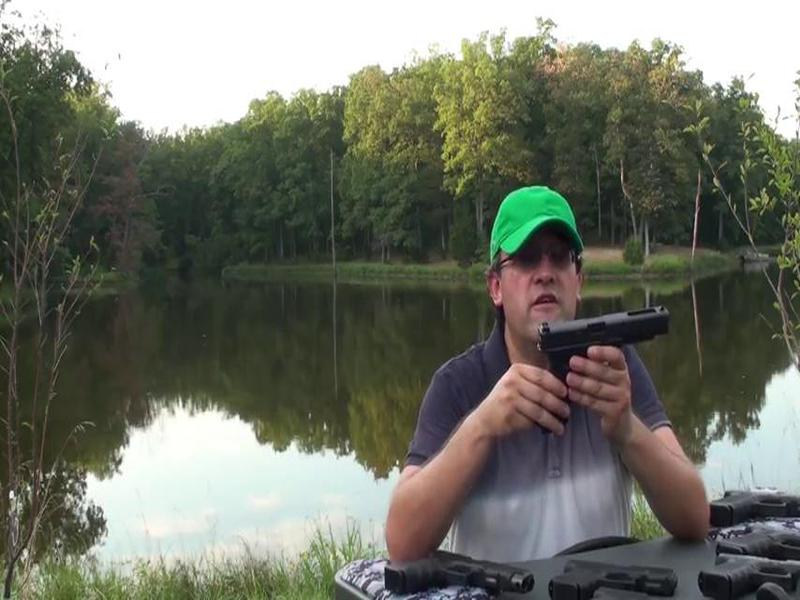Pistola: (527, 297, 674, 397), (377, 539, 534, 597), (549, 552, 679, 600)
